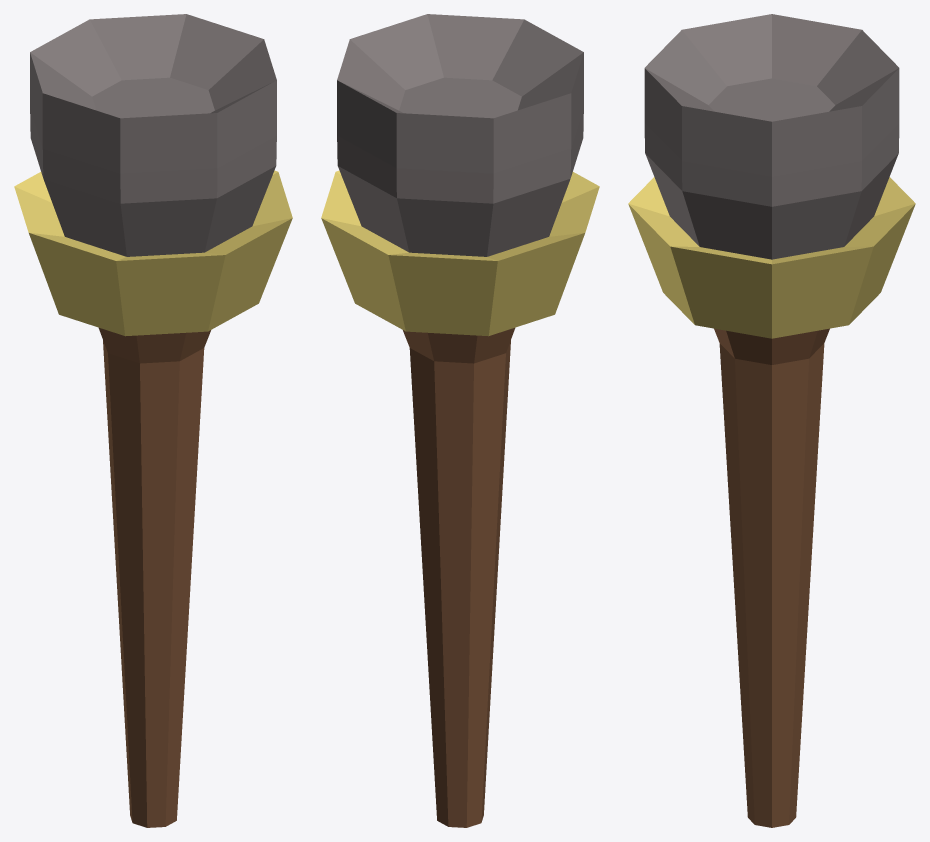
The model's file is torch.fbx.
3 renders of one model, left to right at view 1: azimuth 30°, elevation 25°; view 2: azimuth 150°, elevation 25°; view 3: azimuth 270°, elevation 25°, orthographic.
Visible parts, largest first — view 1: Cylinder; view 2: Cylinder; view 3: Cylinder.
Boxes of the visible parts, x1,y1,x2,y2 form: Cylinder: (14,14,292,827); Cylinder: (321,14,599,827); Cylinder: (628,14,915,827).
Size of the model in its own units: 17.39 by 50 by 17.39.
